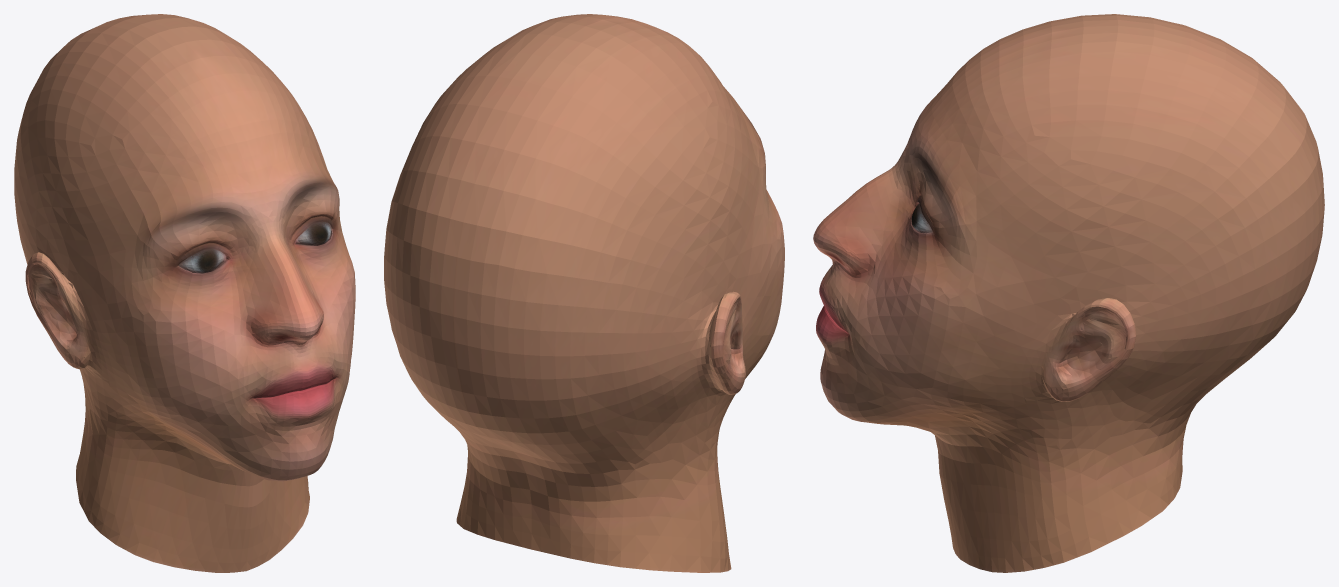
Rendered from face_randfemale.obj.
3 renders of one model, left to right at view 1: azimuth 30°, elevation 25°; view 2: azimuth 150°, elevation 25°; view 3: azimuth 270°, elevation 25°, orthographic. The views are drawn at different scales.
Parts seen in each view (by area): view 1: skin_hi, eyeR_hi, eyeL_hi; view 2: skin_hi; view 3: skin_hi.
Boxes of the visible parts, <box> form: skin_hi: <box>14,14,355,572</box>; eyeR_hi: <box>178,249,226,273</box>; eyeL_hi: <box>294,221,331,245</box>; skin_hi: <box>384,14,784,572</box>; skin_hi: <box>813,14,1324,572</box>.
Size of the model in its own units: 168 by 281 by 249.
Materials: 7 (7 with a texture image).
